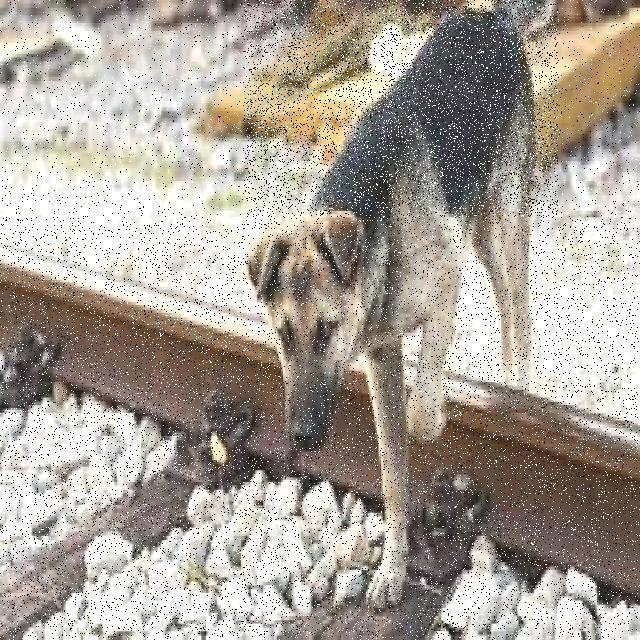rail: (1, 219, 639, 639)
